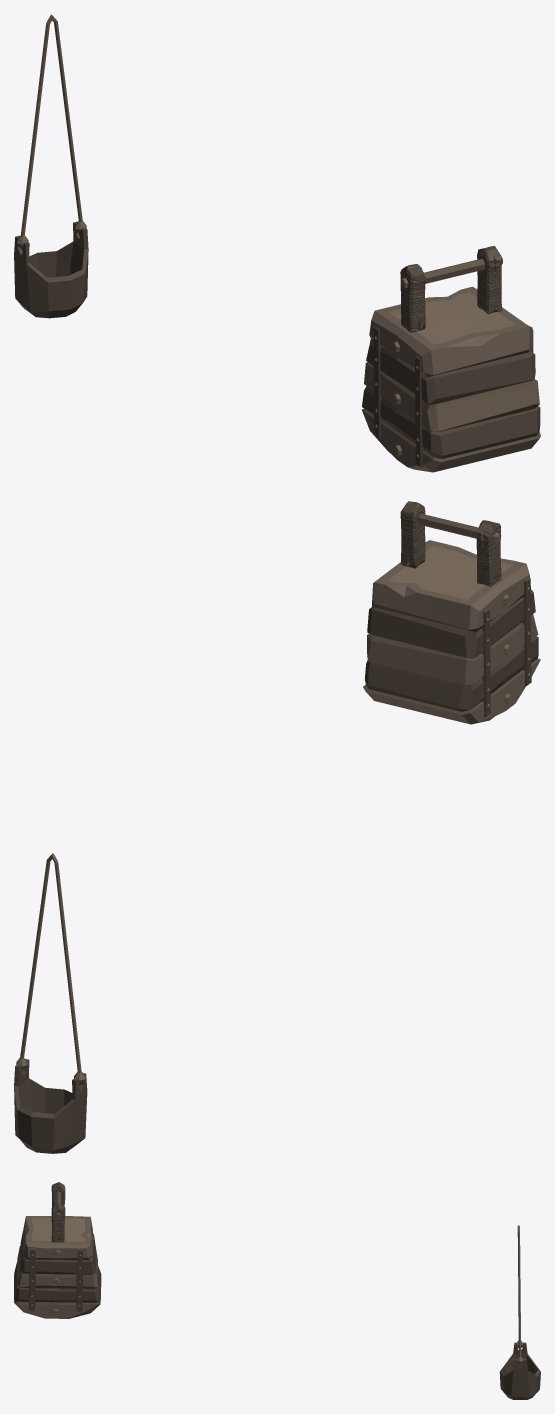
The picture shows the model from 3 angles, top to bottom: view 1: azimuth 30°, elevation 25°; view 2: azimuth 150°, elevation 25°; view 3: azimuth 270°, elevation 25°; orthographic projection. The views are drawn at different scales.
Parts seen in each view (by area): view 1: SM_Wep_Trebuchet_Weight_01, SM_Wep_Trebuchet_Bucket_01; view 2: SM_Wep_Trebuchet_Weight_01, SM_Wep_Trebuchet_Bucket_01; view 3: SM_Wep_Trebuchet_Weight_01, SM_Wep_Trebuchet_Bucket_01.
Boxes of the visible parts, bbox=[...] form: SM_Wep_Trebuchet_Weight_01: bbox=[361, 245, 540, 472]; SM_Wep_Trebuchet_Bucket_01: bbox=[14, 14, 88, 318]; SM_Wep_Trebuchet_Weight_01: bbox=[363, 501, 540, 724]; SM_Wep_Trebuchet_Bucket_01: bbox=[14, 853, 87, 1153]; SM_Wep_Trebuchet_Weight_01: bbox=[14, 1182, 101, 1318]; SM_Wep_Trebuchet_Bucket_01: bbox=[499, 1225, 540, 1399].
Bounding box in the file's own units: 166 × 475 × 1140.
